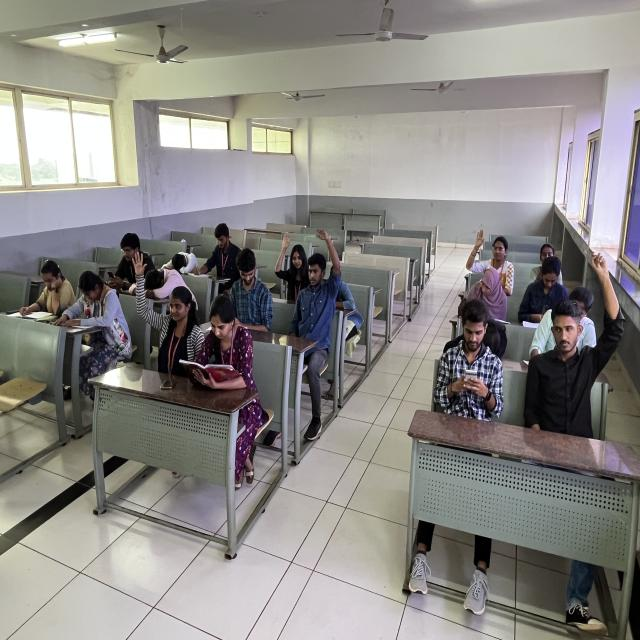Hand Rising: (522, 255, 634, 430), (128, 256, 193, 369), (293, 231, 347, 365), (469, 228, 525, 296), (267, 224, 315, 298)
Reading: (175, 290, 266, 394), (56, 272, 126, 347), (19, 249, 78, 324)
Sleeping: (325, 258, 380, 324), (140, 256, 192, 304), (166, 234, 207, 282)
Using Phone: (435, 305, 514, 424), (522, 260, 576, 323), (102, 234, 150, 286)
Writing: (519, 284, 600, 366), (460, 267, 523, 323), (188, 226, 250, 281)
